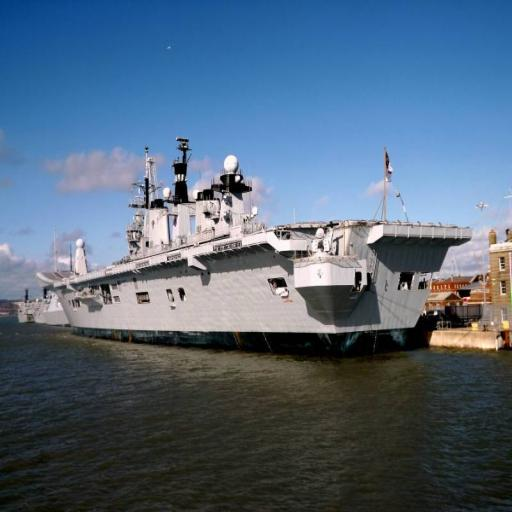Portanaves: (38, 130, 477, 364)
